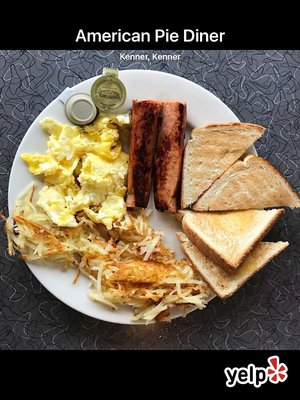soup: (125, 97, 187, 213)
